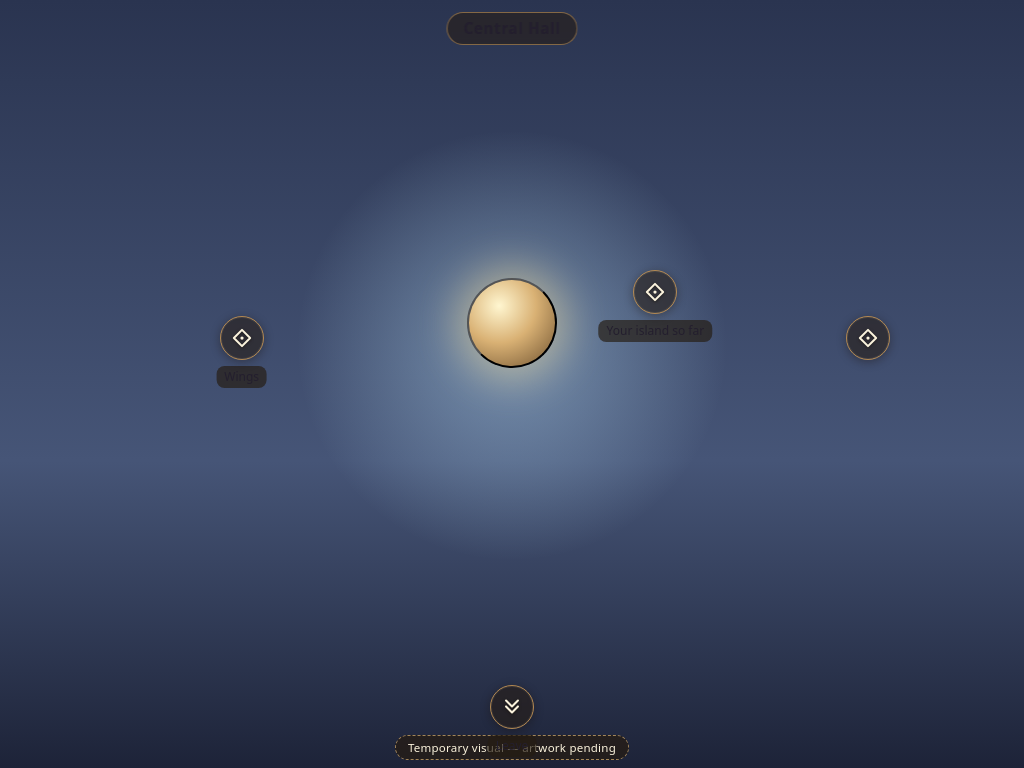
Test case: Museum labels and closed states › shows the "not yet opened" message for an archive exhibit with no configured link
Click the button with test id "hall-wings" at [242, 338], box [220,316,264,360]
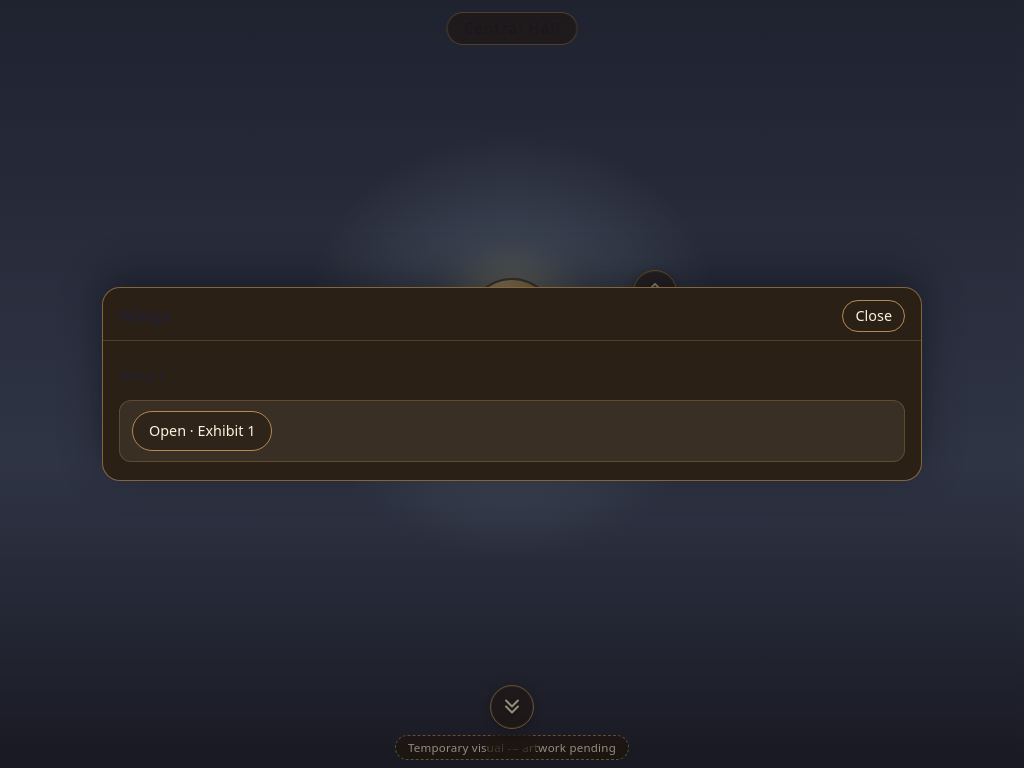
Click the button with test id "exhibit-open-e1" at [202, 431], box [132,411,272,451]
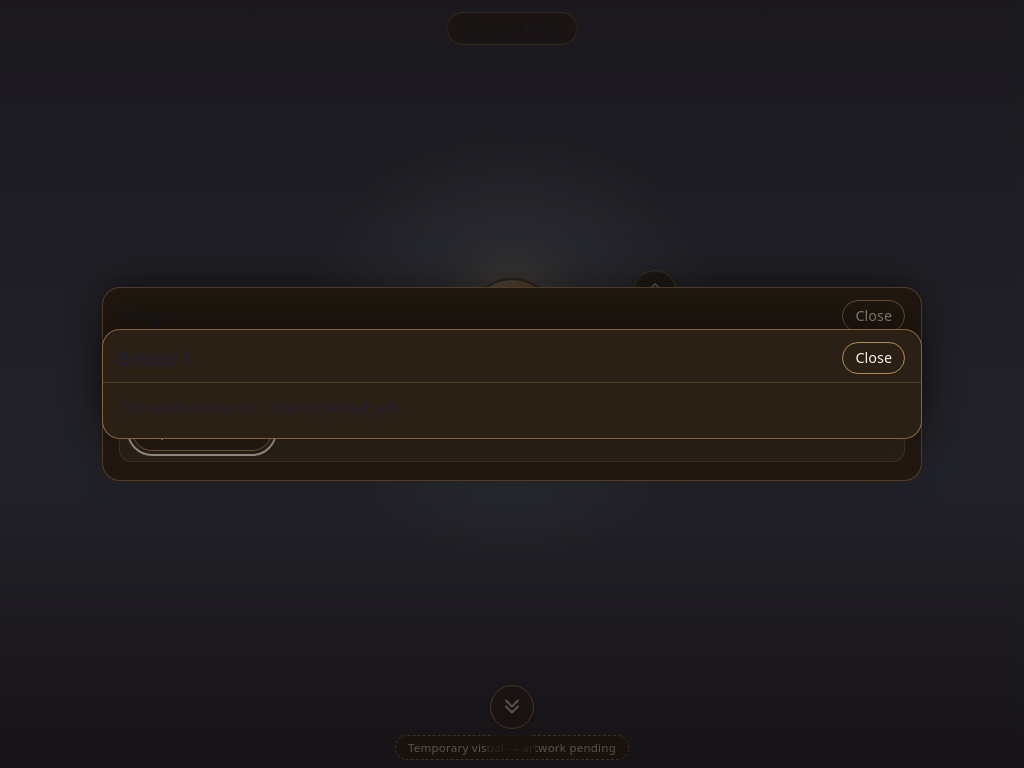
Check: the text "The archive has not been opened yet." is shown, box [119,396,400,418]
